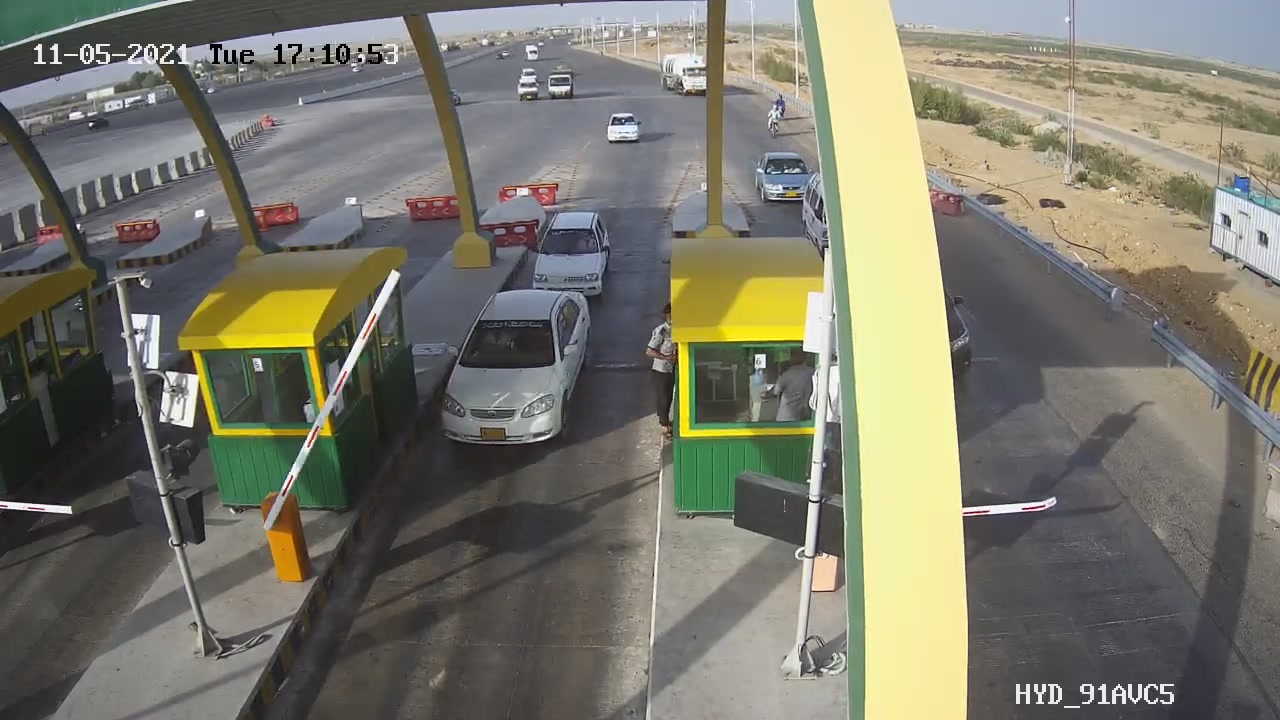F1: (417, 274, 617, 478), (512, 195, 627, 314)
